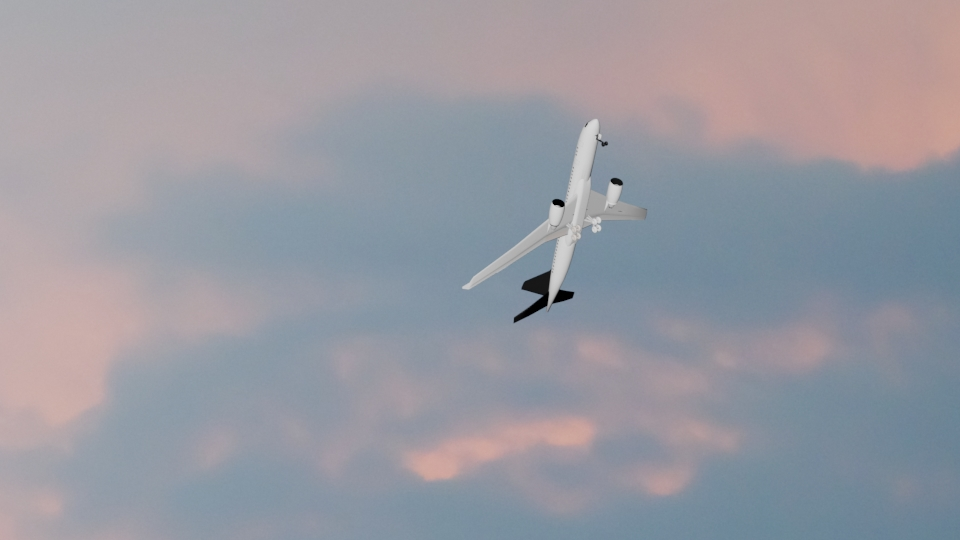plane: (463, 117, 650, 325)
